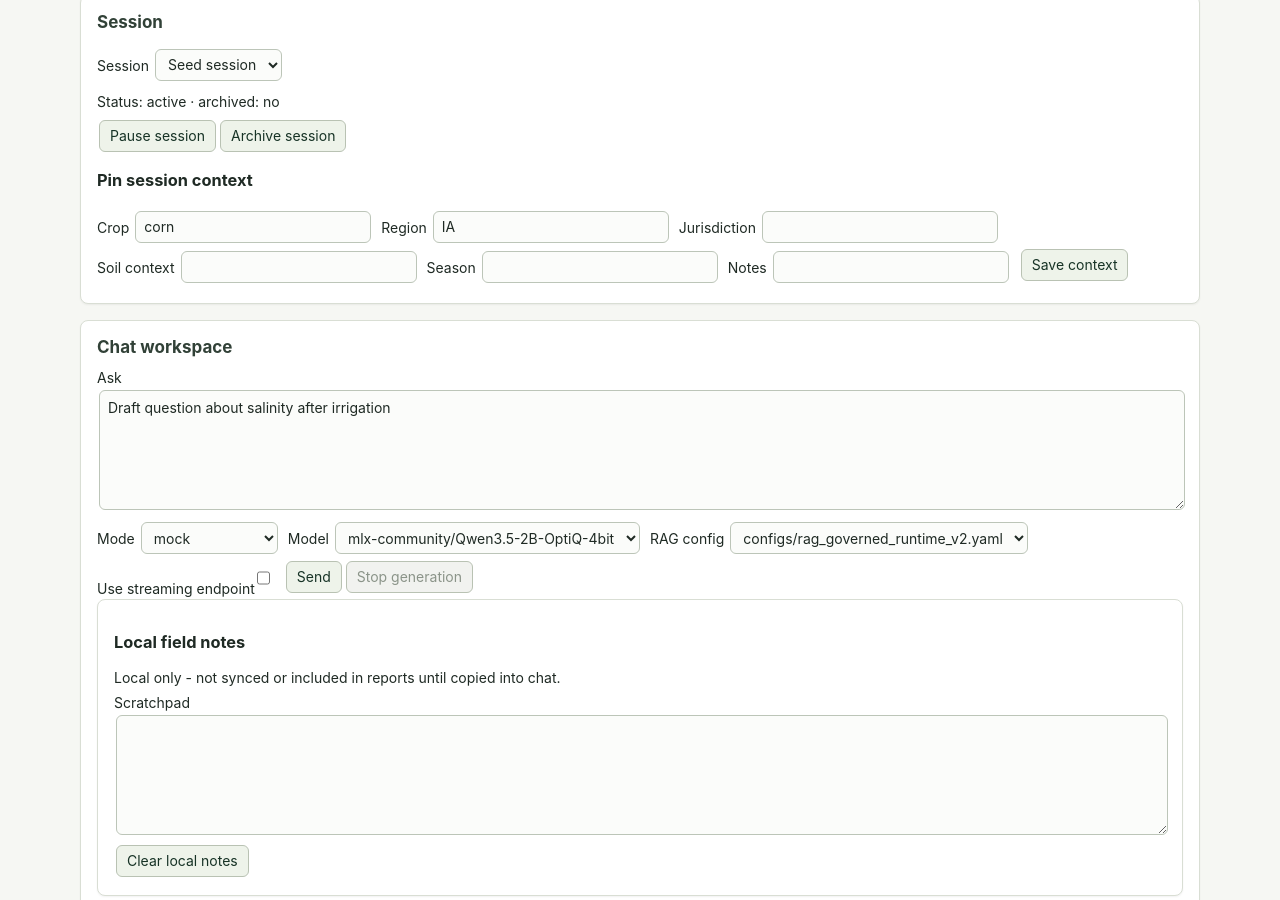
Test case: cockpit app › restores local chat draft and clears it after successful send
(page scrolled)
Replace the text in the text box with test id "chat-input" with "Updated draft about salinity after irrigation" at (642, 450), box [99,390,1185,510]
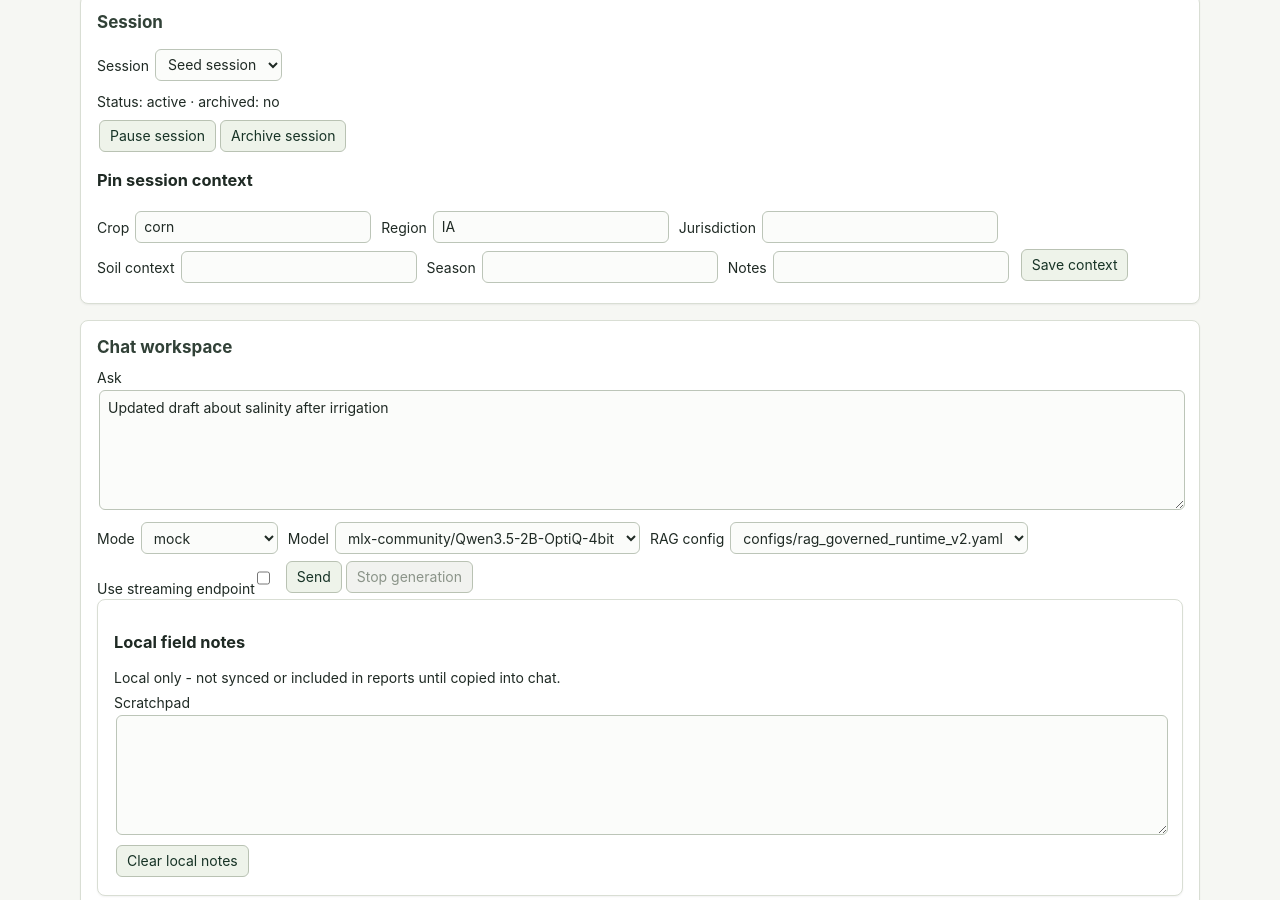
Click the button with test id "send-turn" at (314, 577), box [286,561,342,593]
(page scrolled)
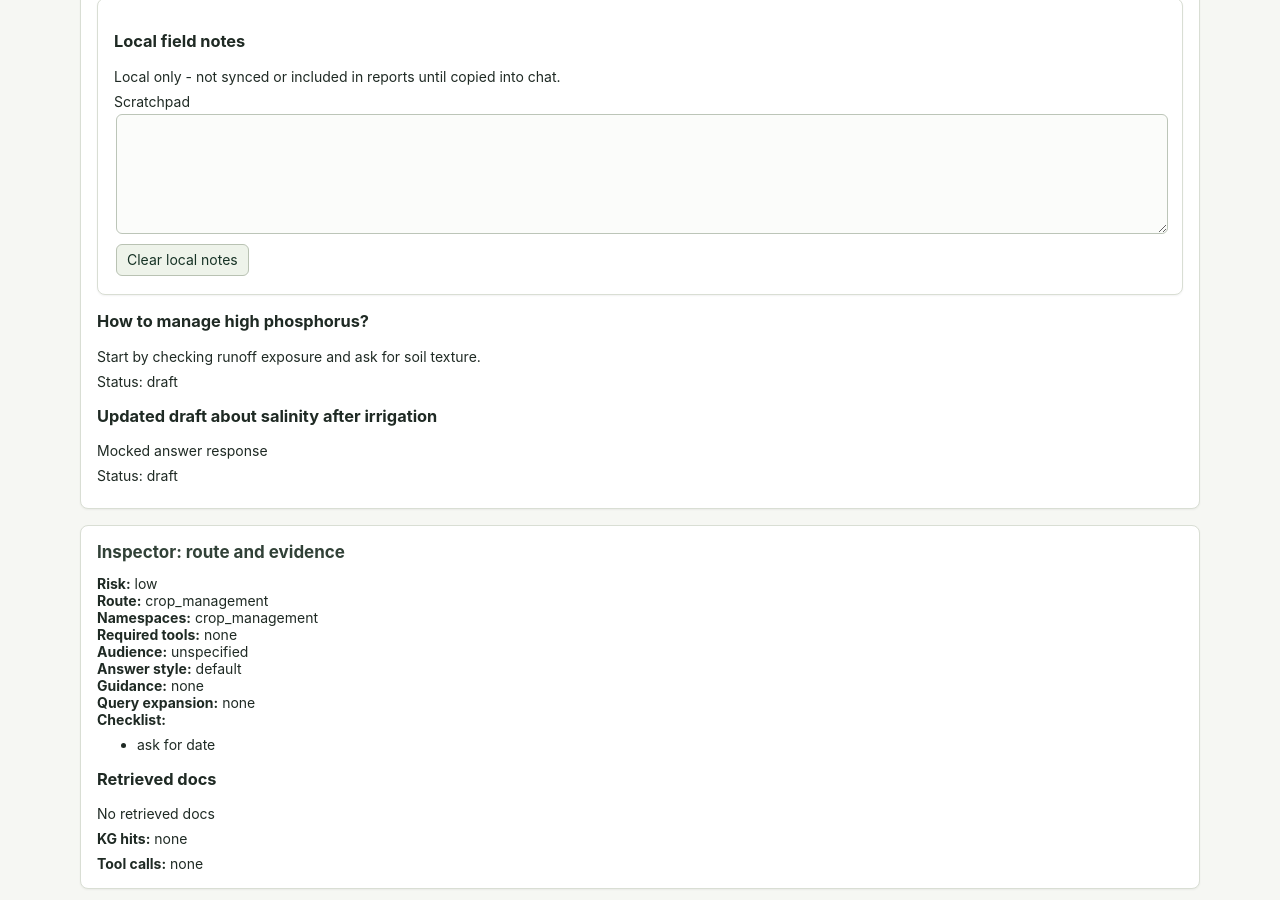
Now the text "Mocked answer response" is shown, box [97,442,268,459]
